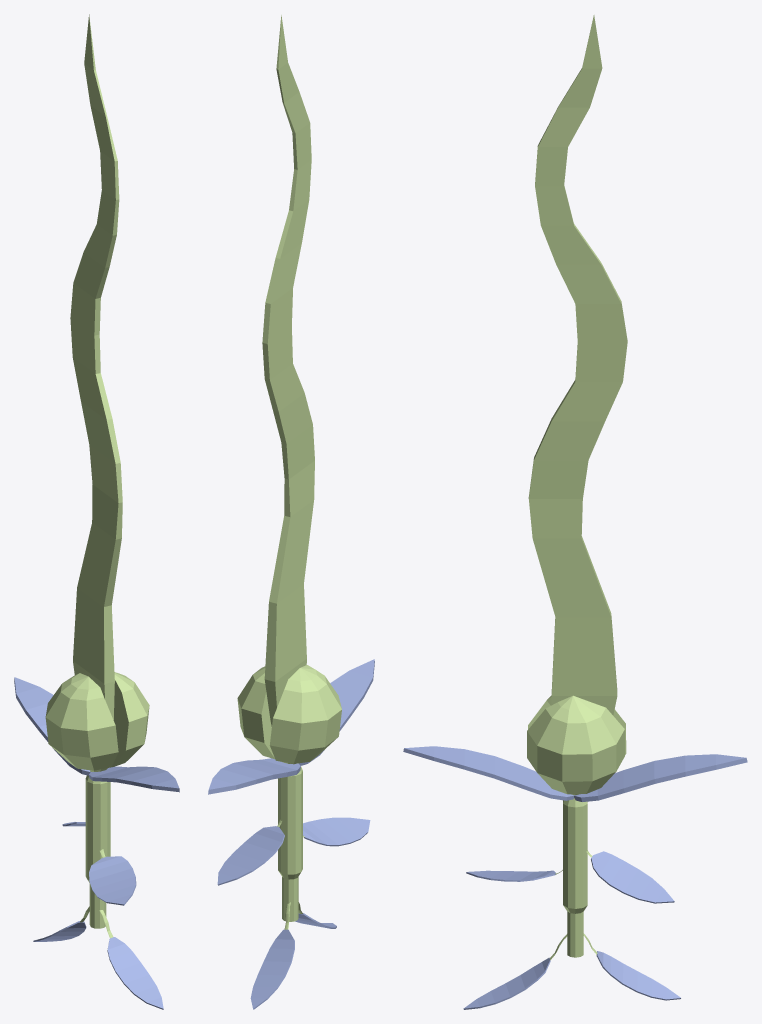
File: Avocado_Flamberge.fbx
3 renders of one model, left to right at view 1: azimuth 30°, elevation 25°; view 2: azimuth 150°, elevation 25°; view 3: azimuth 270°, elevation 25°, orthographic. The views are drawn at different scales.
Parts seen in each view (by area): view 1: Avocado_Flamberge; view 2: Avocado_Flamberge; view 3: Avocado_Flamberge.
Part boxes in pixels (x1,y1,x2,y2): Avocado_Flamberge: (14, 14, 179, 1009); Avocado_Flamberge: (208, 15, 374, 1009); Avocado_Flamberge: (403, 15, 747, 1009).
Bounding box in the file's own units: 0.945 × 9.58 × 3.01.
